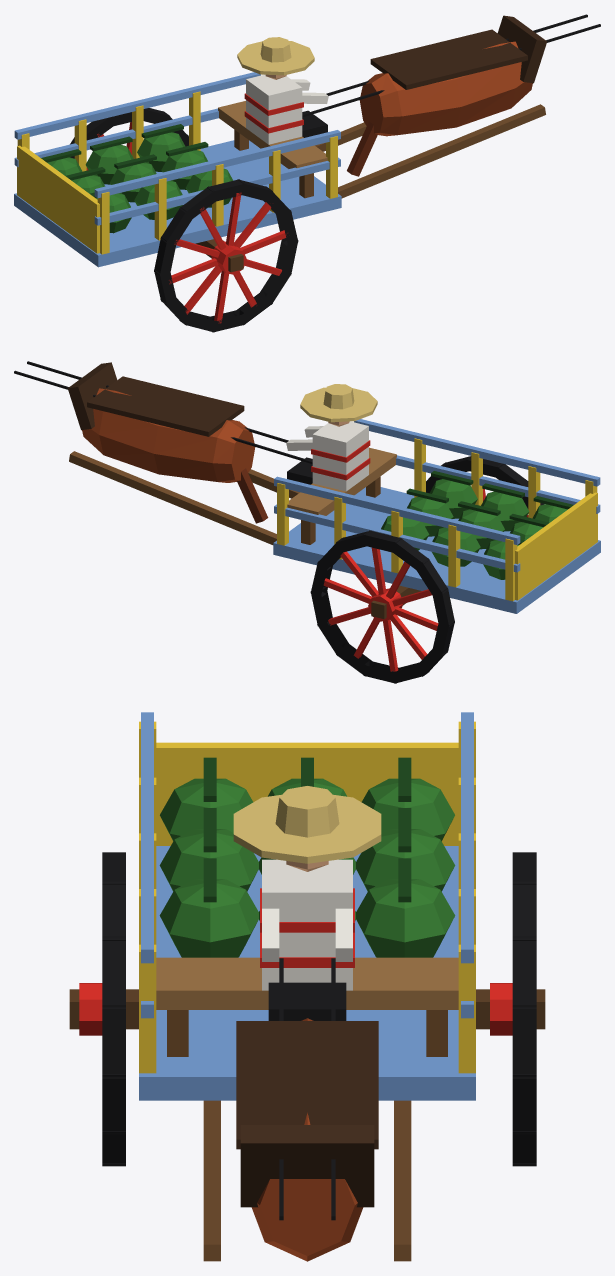
File: carreta_alazan_body.obj
3 renders of one model, top to bottom at view 1: azimuth 30°, elevation 25°; view 2: azimuth 150°, elevation 25°; view 3: azimuth 270°, elevation 25°, orthographic. The views are drawn at different scales.
Parts seen in each view (by area): view 1: carreta_alazan_body; view 2: carreta_alazan_body; view 3: carreta_alazan_body.
Boxes of the visible parts, x1,y1,x2,y2 form: carreta_alazan_body: (14,14,600,332); carreta_alazan_body: (14,361,600,683); carreta_alazan_body: (69,712,545,1261).
Size of the model in its own units: 5.75 by 2.29 by 2.2.
